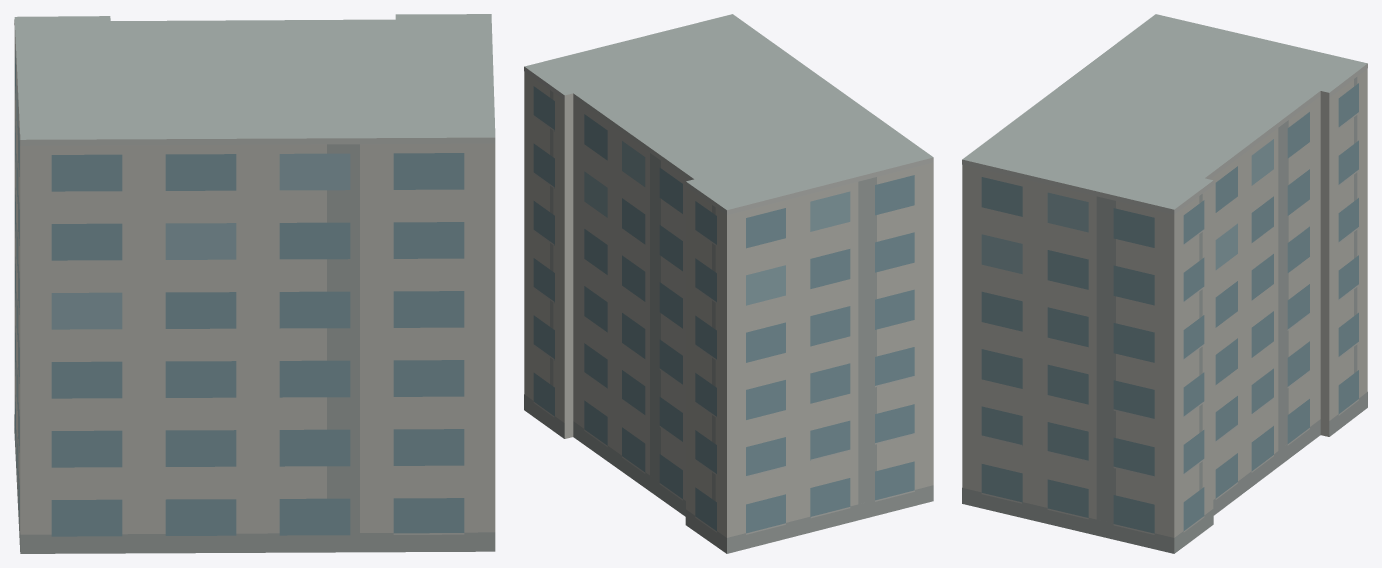
The model's file is survey-upis-32701374.glb.
The picture shows the model from 3 angles, left to right: view 1: azimuth 30°, elevation 25°; view 2: azimuth 150°, elevation 25°; view 3: azimuth 270°, elevation 25°; orthographic projection. The views are drawn at different scales.
Visible parts, largest first — view 1: survey-upis-32701374.tmp; view 2: survey-upis-32701374.tmp; view 3: survey-upis-32701374.tmp.
Part boxes in pixels (x1,y1,x2,y2): survey-upis-32701374.tmp: (14, 14, 495, 553); survey-upis-32701374.tmp: (524, 14, 933, 553); survey-upis-32701374.tmp: (962, 14, 1367, 553).
Size of the model in its own units: 20.36 by 16.7 by 17.84.
